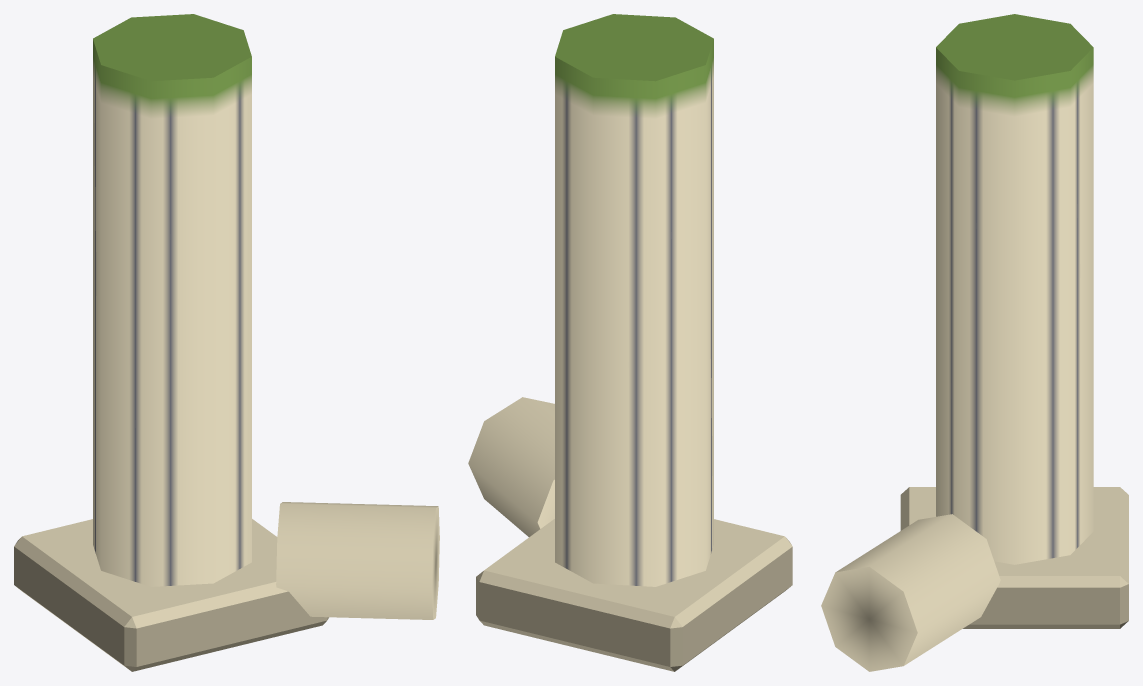
Rendered from prop_columntrue_fabb.glb.
3 views of the same model, side by side, from view 1: azimuth 30°, elevation 25°; view 2: azimuth 150°, elevation 25°; view 3: azimuth 270°, elevation 25° (orthographic). The views are drawn at different scales.
Parts seen in each view (by area): view 1: prop_columntrue_fabb; view 2: prop_columntrue_fabb; view 3: prop_columntrue_fabb.
Boxes of the visible parts, x1,y1,x2,y2 form: prop_columntrue_fabb: (14, 14, 439, 671); prop_columntrue_fabb: (468, 14, 792, 671); prop_columntrue_fabb: (821, 14, 1128, 671).
Size of the model in its own units: 0.7537 by 1.26 by 0.6554.
Materials: 1 (1 with a texture image).
